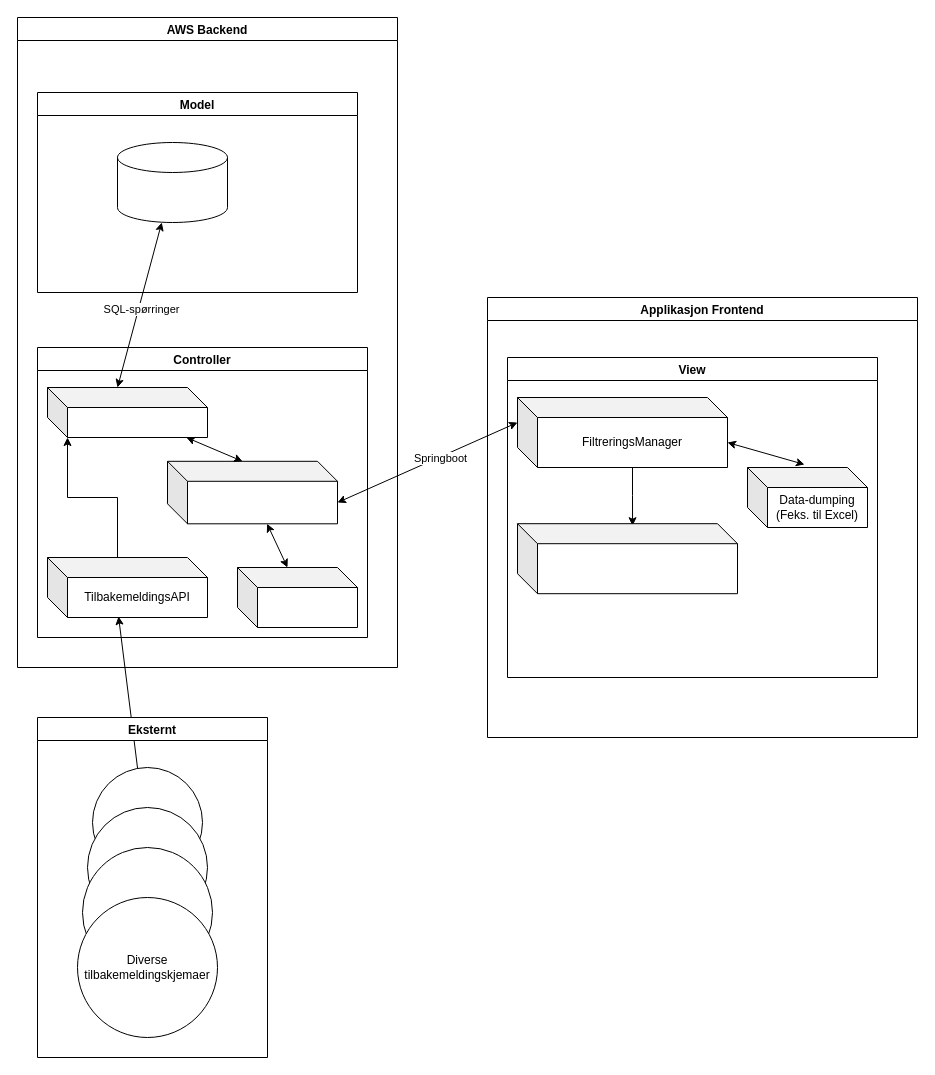
The diagram is 935 pixels wide and 1075 high, and some of its shapes have lost their labels. Here are the shapes that lost their labels. From the top down, the centre of each, then its label:
[172,182]: Tilbakemeldinger
[127,412]: database-manager
[252,492]: Spørre-manager
[627,558]: Statistikk-viser
[297,597]: ML/AI API
